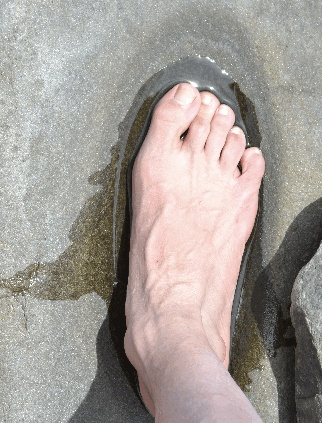feet: (38, 199, 44, 287)
